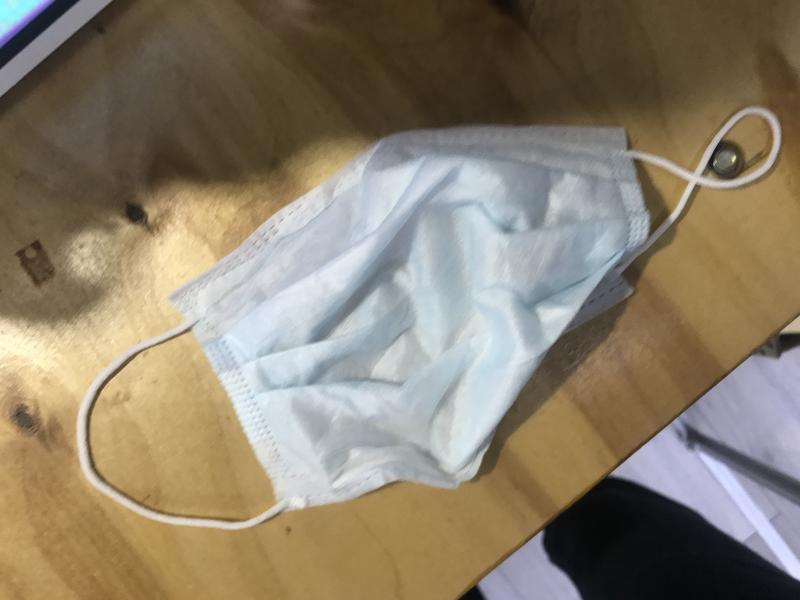medical_mask: (80, 125, 679, 529)
